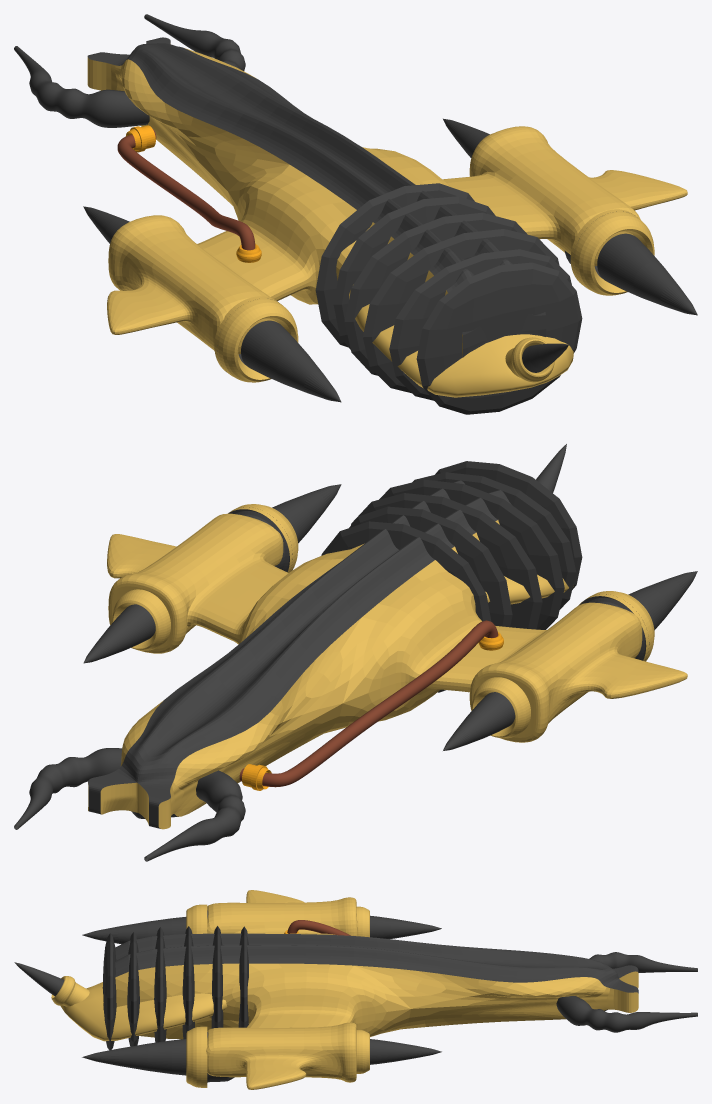
File: SwiftSpace-Wasp3.fbx
The picture shows the model from 3 angles, top to bottom: view 1: azimuth 30°, elevation 25°; view 2: azimuth 150°, elevation 25°; view 3: azimuth 270°, elevation 25°; orthographic projection. The views are drawn at different scales.
Visible parts, largest first — view 1: Cube; view 2: Cube; view 3: Cube.
Part boxes in pixels (box(x1,y1,x2,y2)): Cube: box(14, 14, 697, 414); Cube: box(14, 444, 697, 861); Cube: box(14, 890, 697, 1089).
Size of the model in its own units: 192 by 53.29 by 281.
